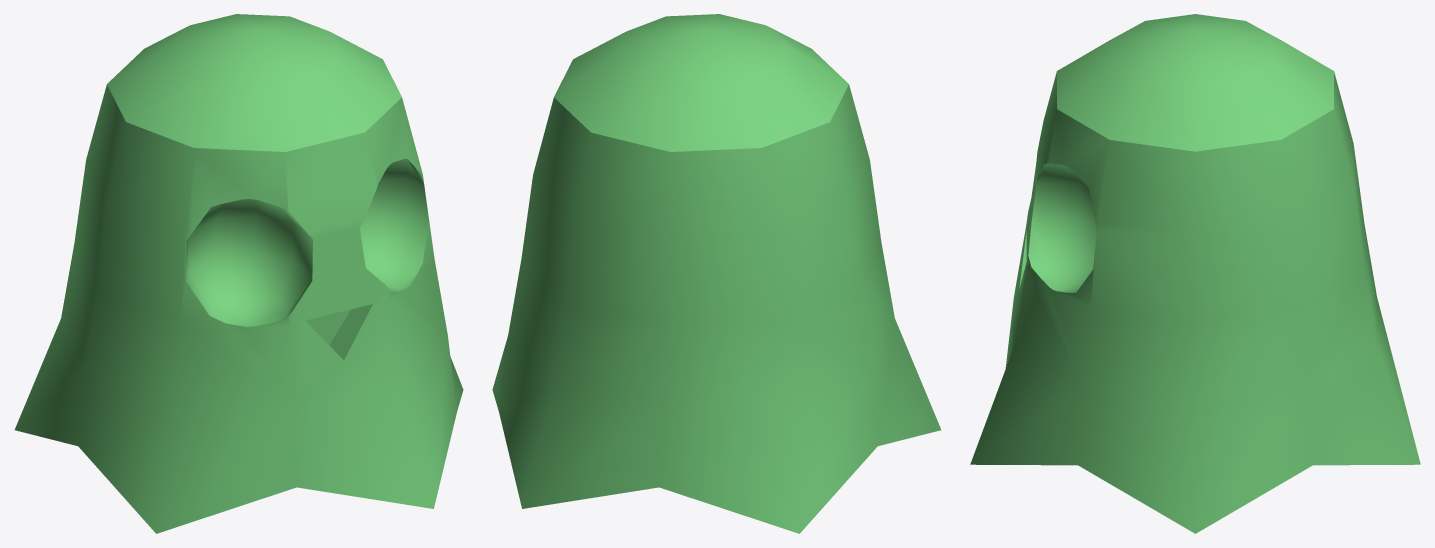
Rendered from Ghost01.fbx.
3 renders of one model, left to right at view 1: azimuth 30°, elevation 25°; view 2: azimuth 150°, elevation 25°; view 3: azimuth 270°, elevation 25°, orthographic.
Visible parts, largest first — view 1: Ghost01; view 2: Ghost01; view 3: Ghost01.
Boxes of the visible parts, x1=… form: Ghost01: x1=14, y1=14, x2=463, y2=533; Ghost01: x1=492, y1=14, x2=941, y2=533; Ghost01: x1=970, y1=14, x2=1420, y2=533.
Bounding box in the file's own units: 22.9 × 23.3 × 23.63.
